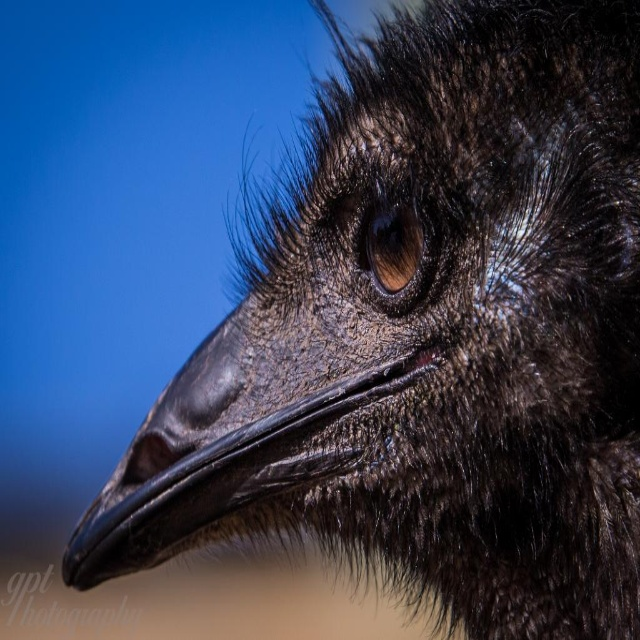Ostrich: (61, 0, 640, 640)
